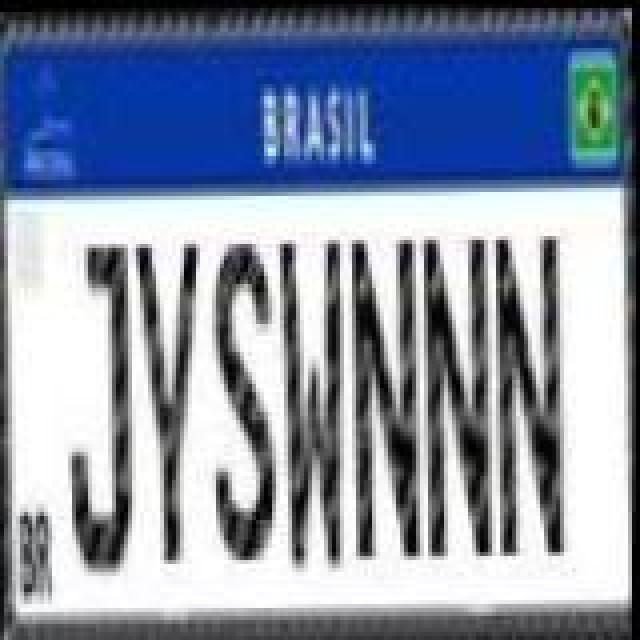J: (60, 240, 144, 580)
N: (484, 220, 568, 560), (346, 224, 426, 564), (414, 230, 494, 558)
S: (206, 232, 286, 560)
W: (270, 234, 350, 574)
Y: (128, 230, 212, 570)
